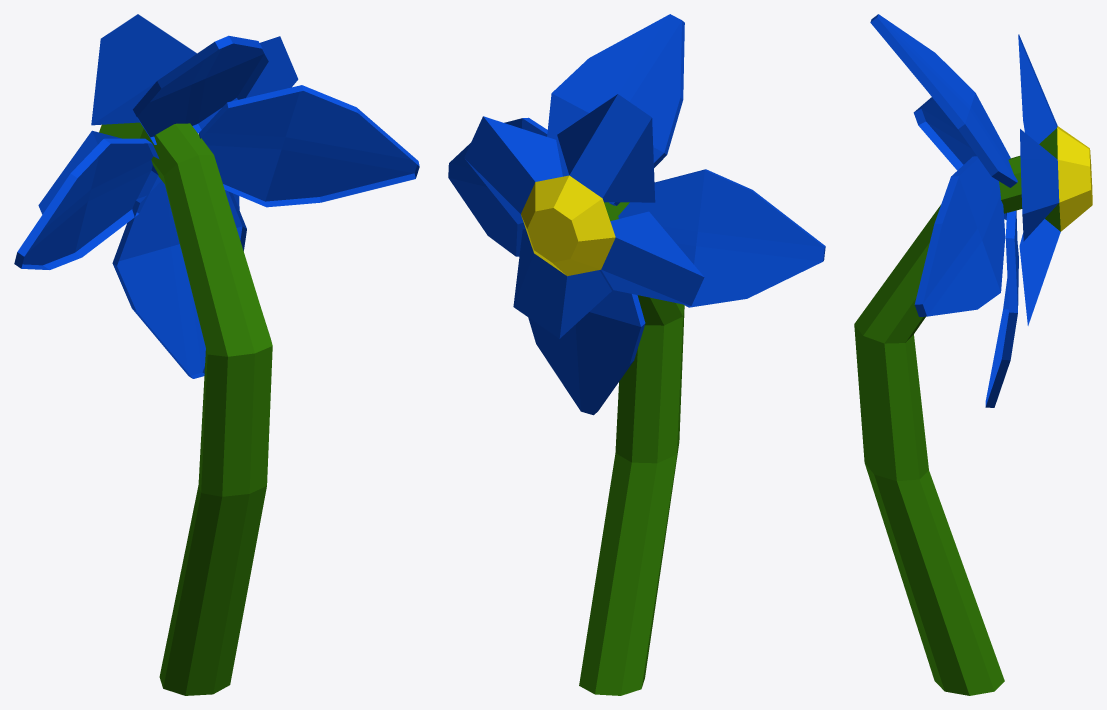
The model's file is flor_a_2.fbx.
3 renders of one model, left to right at view 1: azimuth 30°, elevation 25°; view 2: azimuth 150°, elevation 25°; view 3: azimuth 270°, elevation 25°, orthographic. The views are drawn at different scales.
Parts seen in each view (by area): view 1: Cylinder.003; view 2: Cylinder.003; view 3: Cylinder.003.
Boxes of the visible parts, box(x1,y1,x2,y2) form: Cylinder.003: box(14, 14, 419, 695); Cylinder.003: box(448, 14, 825, 695); Cylinder.003: box(854, 14, 1092, 695).
Bounding box in the file's own units: 78.94 × 128 × 42.16.
